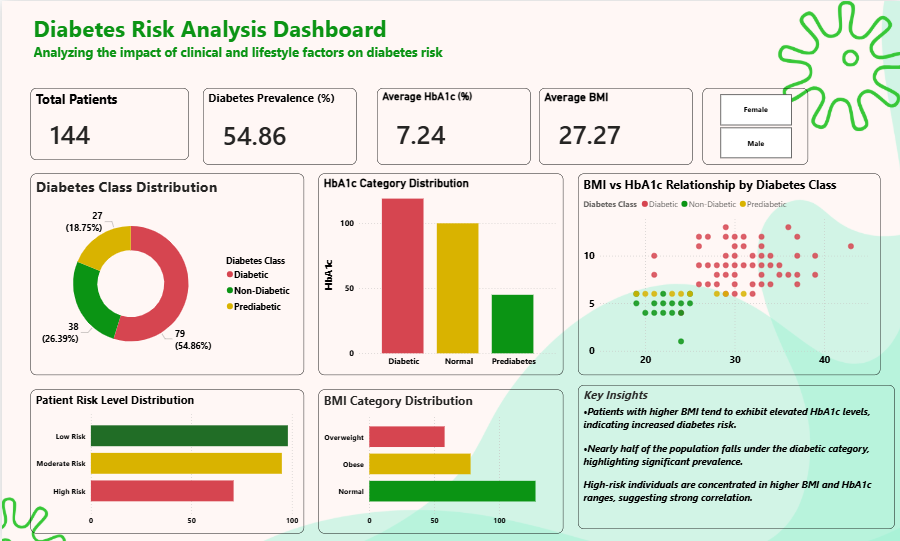

The dashboard page shown, as its layout file describes it:
{"tool":"powerbi","page":{"name":"Page 1","canvas":[1500,900],"ordinal":0},"visuals":[{"type":"cardVisual","title":"Total Patients","fields":{"Data":["Multiclass Diabetes Dataset.Total Patients"]},"box":[48,144,264,120],"z":0},{"type":"cardVisual","title":"Diabetes Prevalence (%)","fields":{"Data":["Multiclass Diabetes Dataset.Diabetes %"]},"box":[336,144,256,128],"z":1000},{"type":"cardVisual","title":"Average HbA1c (%)","fields":{"Data":["Multiclass Diabetes Dataset.Avg HbA1c"]},"box":[624,144,256,128],"z":2000},{"type":"cardVisual","title":"Average BMI","fields":{"Data":["Multiclass Diabetes Dataset.Avg BMI"]},"box":[896,144,256,128],"z":3000},{"type":"donutChart","title":"Diabetes Class Distribution","fields":{"Category":["Multiclass Diabetes Dataset.Diabetes Class"],"Y":["CountNonNull(Multiclass Diabetes Dataset.Diabetes Class)"]},"box":[48,288,456,336],"z":4000},{"type":"clusteredBarChart","title":"Patient Risk Level Distribution","fields":{"Category":["Multiclass Diabetes Dataset.Risk Level"],"Y":["CountNonNull(Multiclass Diabetes Dataset.Risk Level)"]},"box":[48,648,456,240],"z":5000},{"type":"columnChart","title":"HbA1c Category Distribution","fields":{"Category":["Multiclass Diabetes Dataset.HbA1c Category"],"Y":["CountNonNull(Multiclass Diabetes Dataset.HbA1c Category)"]},"box":[528,288,408,336],"z":6000},{"type":"clusteredBarChart","title":"BMI Category Distribution","fields":{"Category":["Multiclass Diabetes Dataset.BMI Category"],"Y":["CountNonNull(Multiclass Diabetes Dataset.BMI Category)"]},"box":[528,648,408,240],"z":7000},{"type":"scatterChart","title":"BMI vs HbA1c Relationship by Diabetes Class","fields":{"X":["Multiclass Diabetes Dataset.BMI"],"Y":["Multiclass Diabetes Dataset.HbA1c"],"Series":["Multiclass Diabetes Dataset.Diabetes Class"]},"box":[960,288,504,336],"z":8000},{"type":"textbox","box":[48,16,752,96],"z":10000},{"type":"textbox","title":"Key Insights","box":[960,640,528,240],"z":11000},{"type":"slicer","fields":{"Values":["Multiclass Diabetes Dataset.Gender"]},"box":[1168,144,176,128],"z":11001}]}

Visuals, with their boxes in screenshot pixels (x1, y1, x2, y2), scaled from the page's 1500x900 canvas onto the 900x541 screenshot:
"Total Patients" cardVisual: x1=29 y1=87 x2=187 y2=159
"Diabetes Prevalence (%)" cardVisual: x1=202 y1=87 x2=355 y2=164
"Average HbA1c (%)" cardVisual: x1=374 y1=87 x2=528 y2=164
"Average BMI" cardVisual: x1=538 y1=87 x2=691 y2=164
"Diabetes Class Distribution" donutChart: x1=29 y1=173 x2=302 y2=375
"Patient Risk Level Distribution" clusteredBarChart: x1=29 y1=390 x2=302 y2=534
"HbA1c Category Distribution" columnChart: x1=317 y1=173 x2=562 y2=375
"BMI Category Distribution" clusteredBarChart: x1=317 y1=390 x2=562 y2=534
"BMI vs HbA1c Relationship by Diabetes Class" scatterChart: x1=576 y1=173 x2=878 y2=375
textbox: x1=29 y1=10 x2=480 y2=67
"Key Insights" textbox: x1=576 y1=385 x2=893 y2=529
slicer - Multiclass Diabetes Dataset.Gender: x1=701 y1=87 x2=806 y2=164
